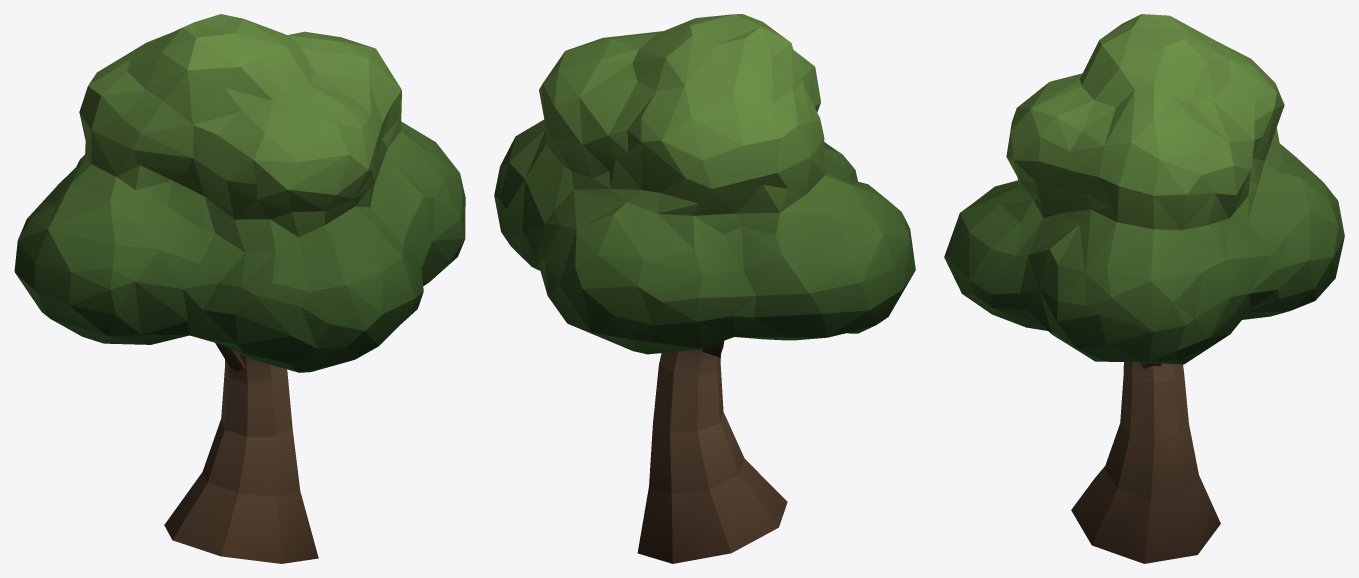
File: dab.glb
3 views of the same model, side by side, from view 1: azimuth 30°, elevation 25°; view 2: azimuth 150°, elevation 25°; view 3: azimuth 270°, elevation 25° (orthographic). The views are drawn at different scales.
Visible parts, largest first — view 1: dab_0; view 2: dab_0; view 3: dab_0.
Part boxes in pixels (x1,y1,x2,y2): dab_0: (14,14,465,563); dab_0: (494,14,915,563); dab_0: (944,14,1344,563).
Bounding box in the file's own units: 2.04 × 2.55 × 1.86.
